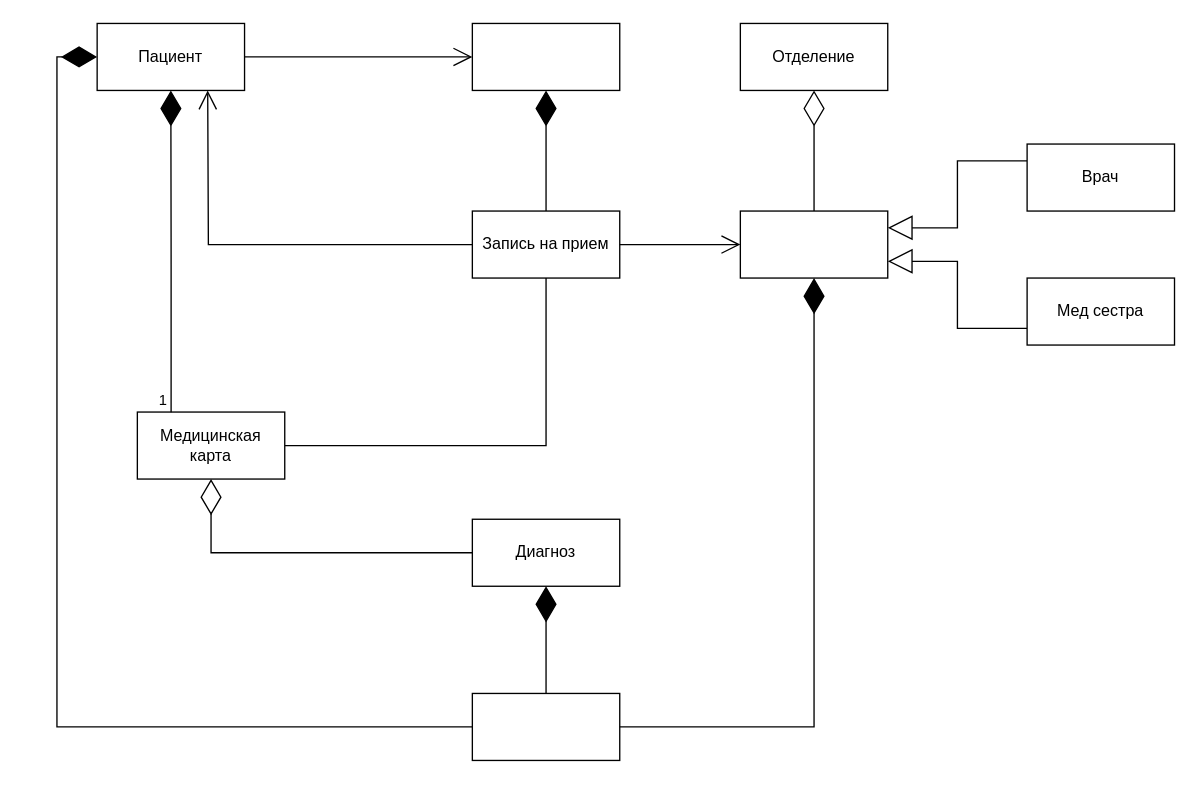
Image size: 1198x785. Some labels were removed from this diagram. The box of each missing label's shape, as (x1, y1, x2, y2) in pixels:
Лечение: (471, 692, 620, 760)
Медицинский работник: (739, 210, 888, 278)
Регистратура: (471, 22, 620, 90)
